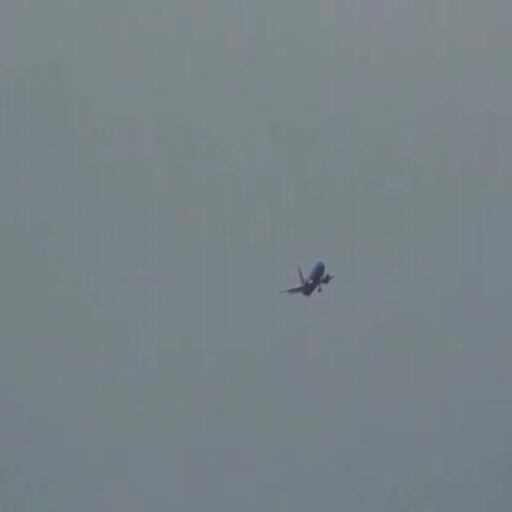aircraft: (281, 261, 335, 296)
